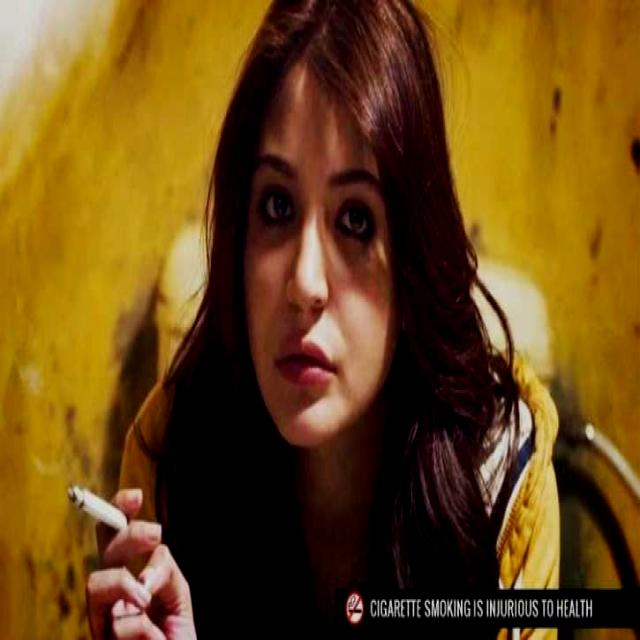Smooking: (60, 474, 128, 548)
